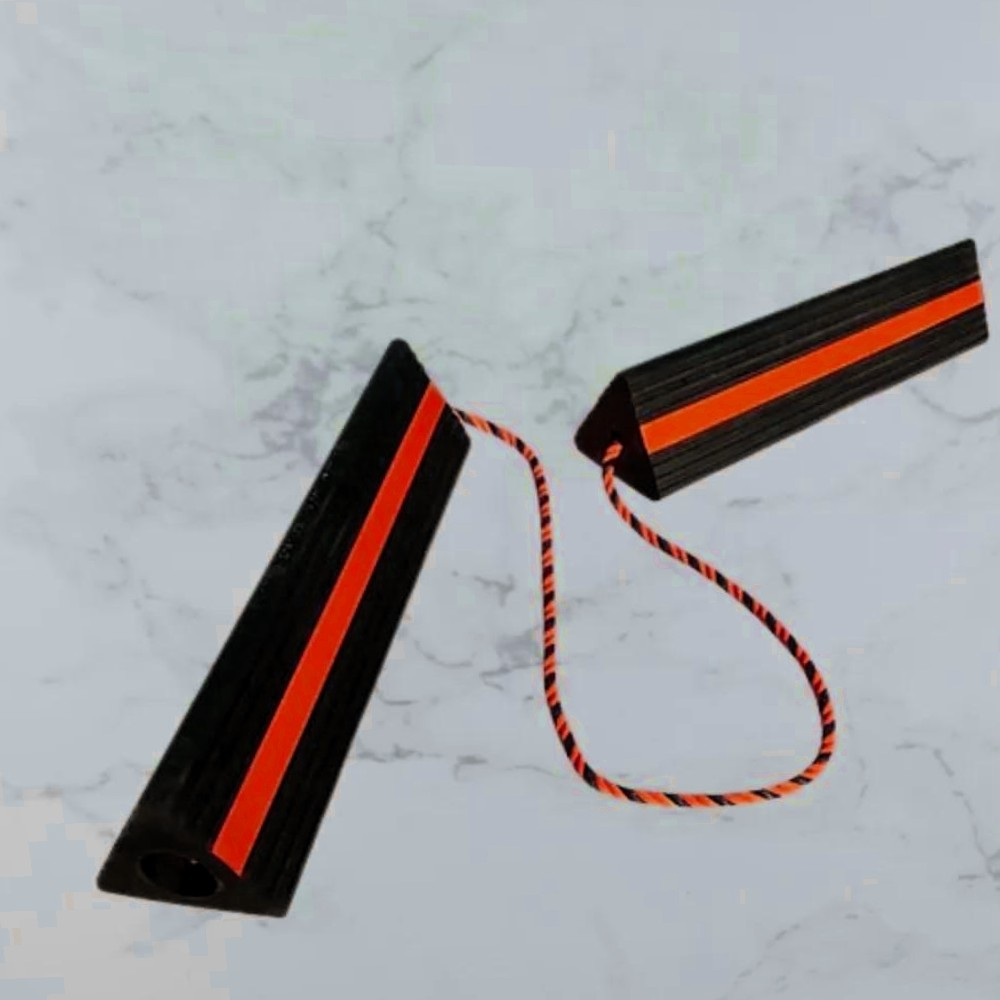chock: (25, 322, 493, 933), (568, 222, 994, 502)
